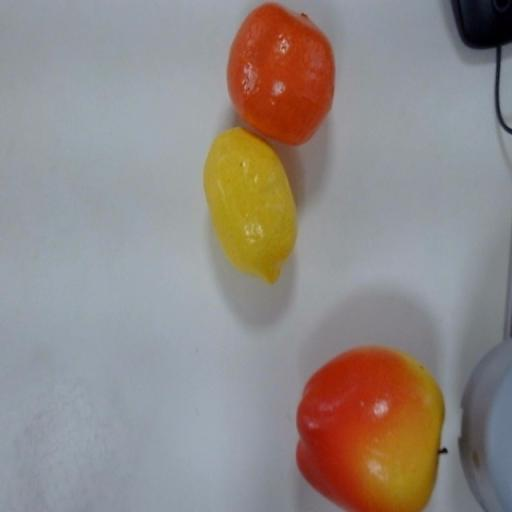Ripe: (294, 341, 456, 512), (199, 123, 305, 288), (225, 0, 338, 149)
